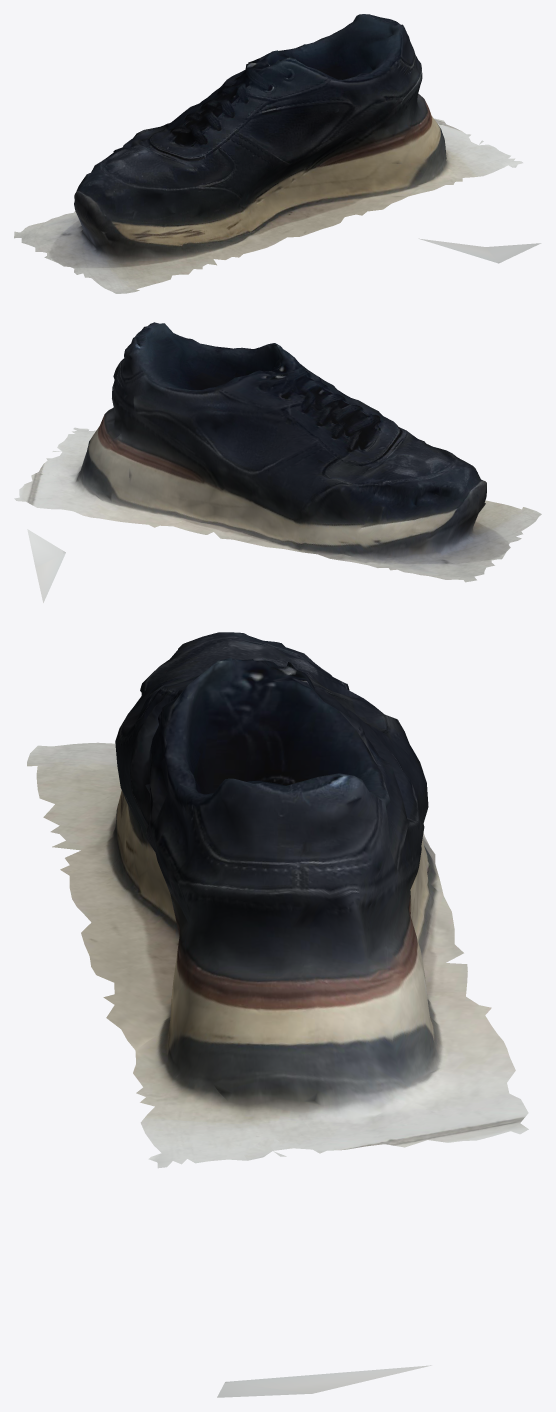
File: untiffftled.glb
The picture shows the model from 3 angles, top to bottom: view 1: azimuth 30°, elevation 25°; view 2: azimuth 150°, elevation 25°; view 3: azimuth 270°, elevation 25°; orthographic projection. The views are drawn at different scales.
Parts seen in each view (by area): view 1: Textured_mesh_1; view 2: Textured_mesh_1; view 3: Textured_mesh_1.
Part boxes in pixels (x1,y1,x2,y2): Textured_mesh_1: [14, 14, 541, 293]; Textured_mesh_1: [14, 322, 541, 602]; Textured_mesh_1: [27, 632, 528, 1397].
Size of the model in its own units: 5.8 by 2.99 by 2.58.
1 material, 1 textured.
